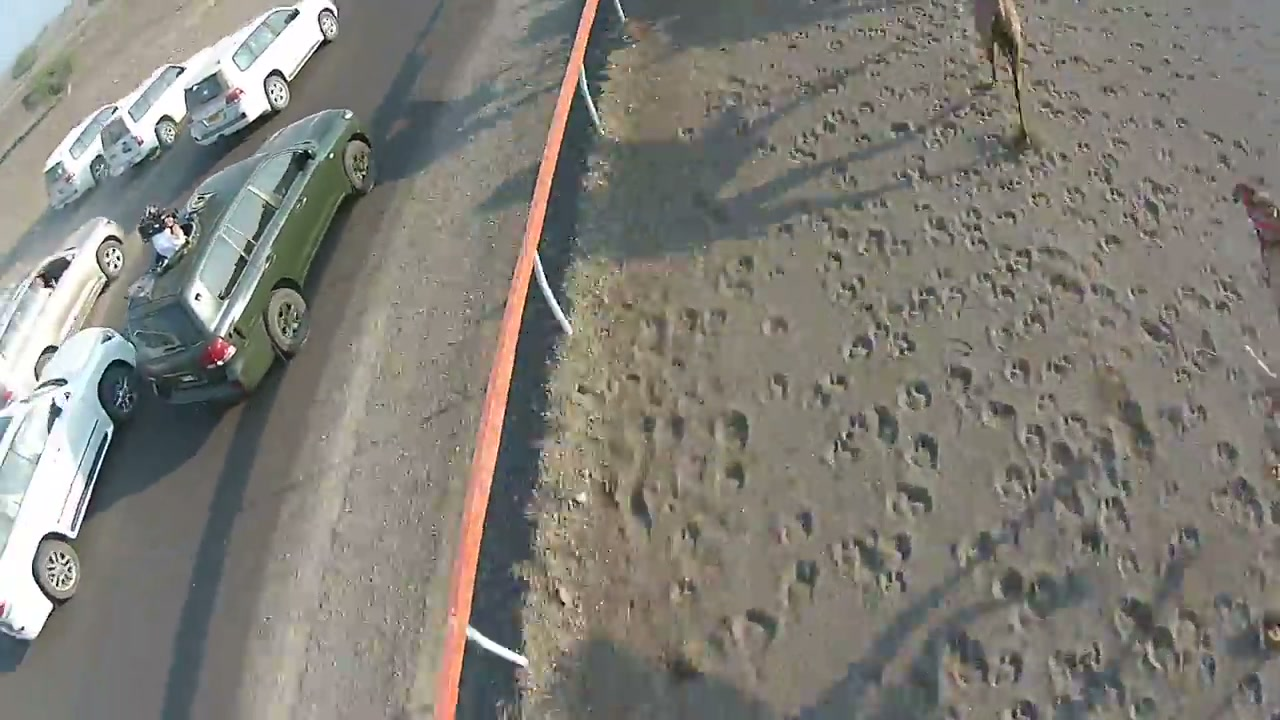animal_foot_print: (528, 3, 1279, 719)
